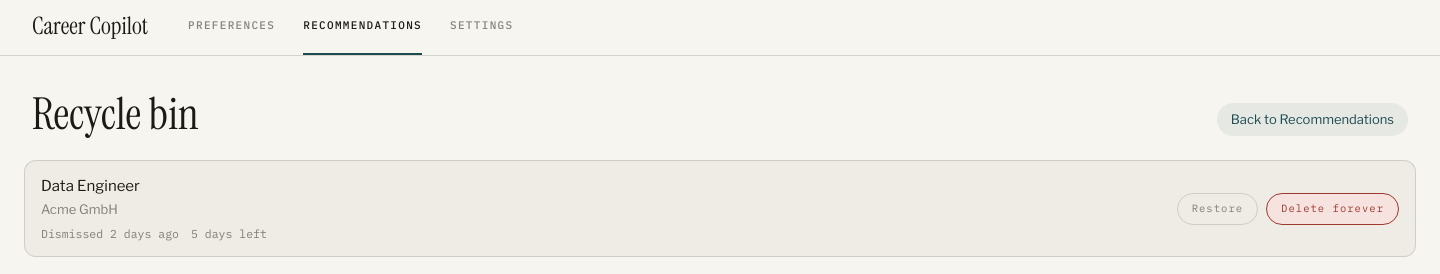
Test: recycle bin › delete forever asks first, and No does nothing
Click the button "Delete forever": click(1333, 209) [1266,193,1399,225]
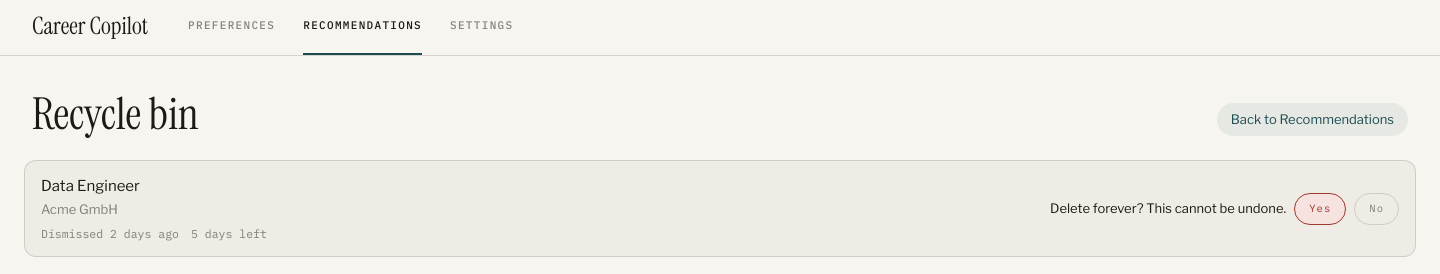
Result: the text "Delete forever? This cannot be undone." is shown at [1050,199,1286,218]
Click the button "No": click(1377, 209) [1354,193,1399,225]
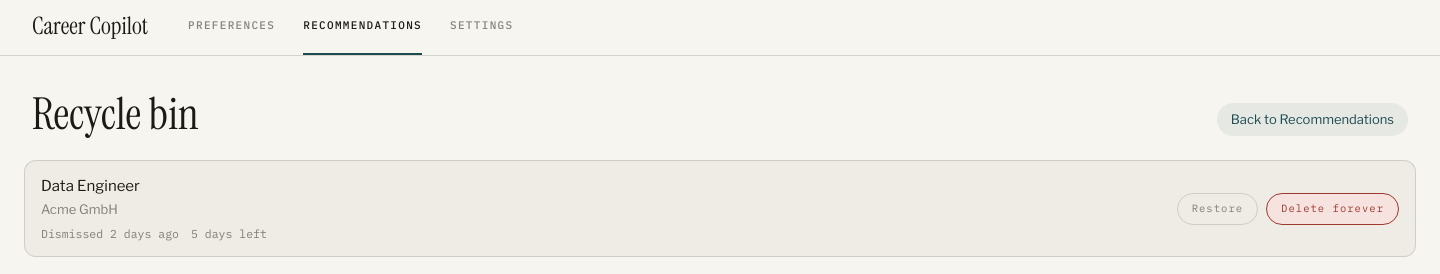
Expected: the text "Data Engineer" is shown, [41,177,140,195]
Result: the text "Delete forever? This cannot be undone." is gone
